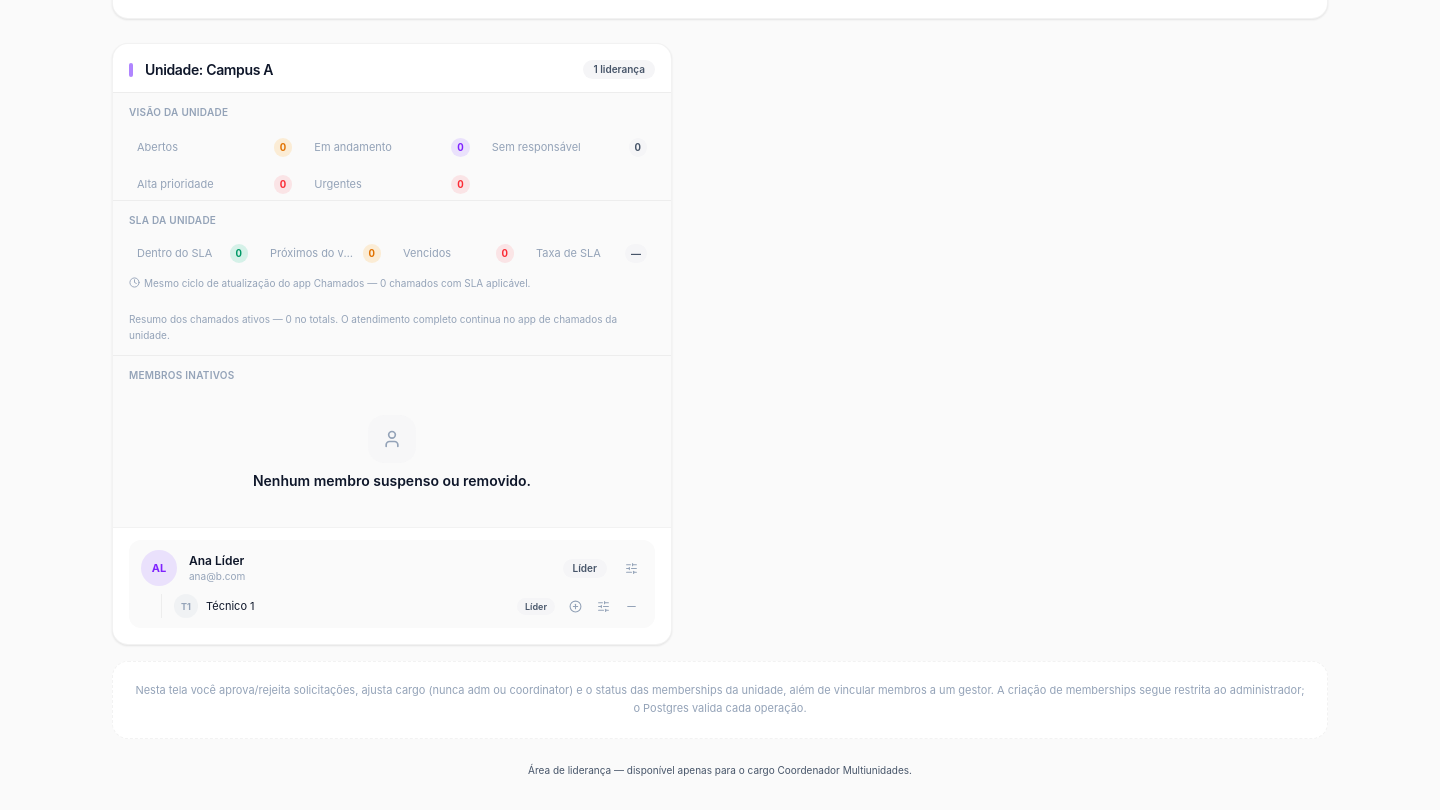
Test: CoordinatorHome (Área do Coordenador — gestão por RPC escopada) › gestão de cargo e status (setCoordinatorRole / suspend / remove) › erro do servidor na troca de cargo → erro inline, NÃO fecha, NÃO refresca
(page scrolled)
What coordinates should you click on to do the following:
click the button named "Gerenciar Técnico 1"
I would click on:
 (603, 606)
Its box is [591,594,615,618].
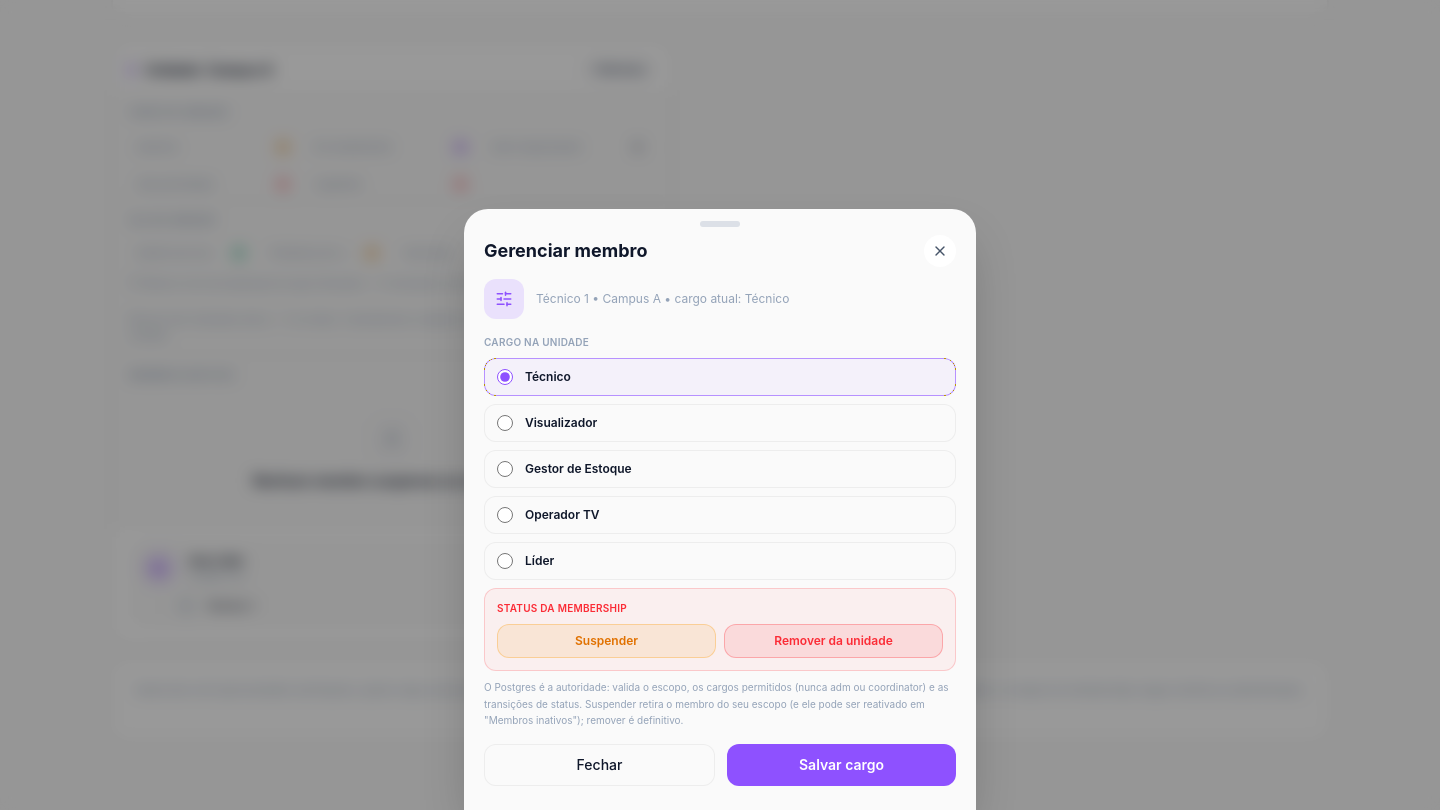
What coordinates should you click on to do the following:
click the radio button labelled "Líder"
I would click on:
 (505, 561)
Its box is [497,553,513,569].
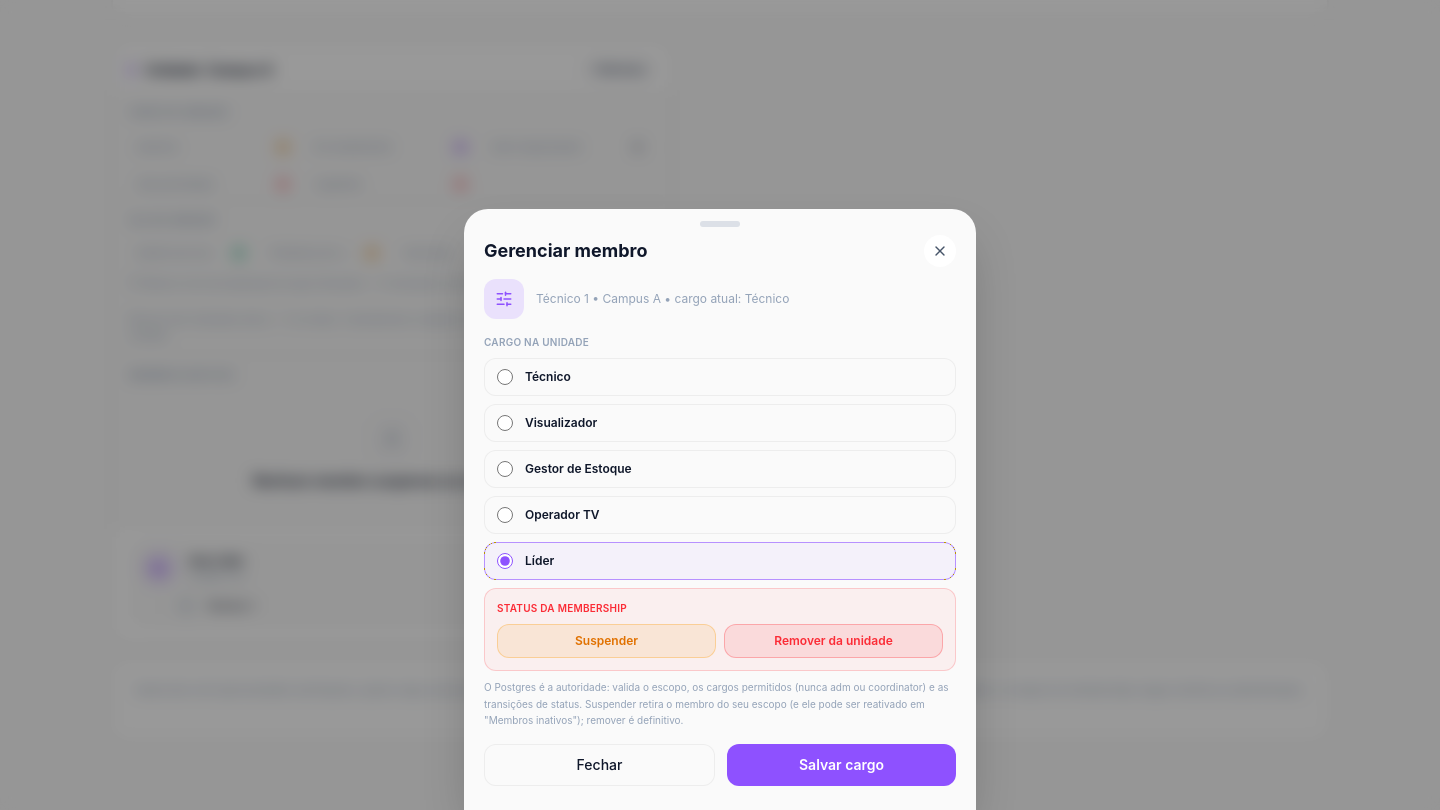
What coordinates should you click on to do the following:
click the button "Salvar cargo"
I would click on:
 (842, 765)
Its box is [727,744,956,786].
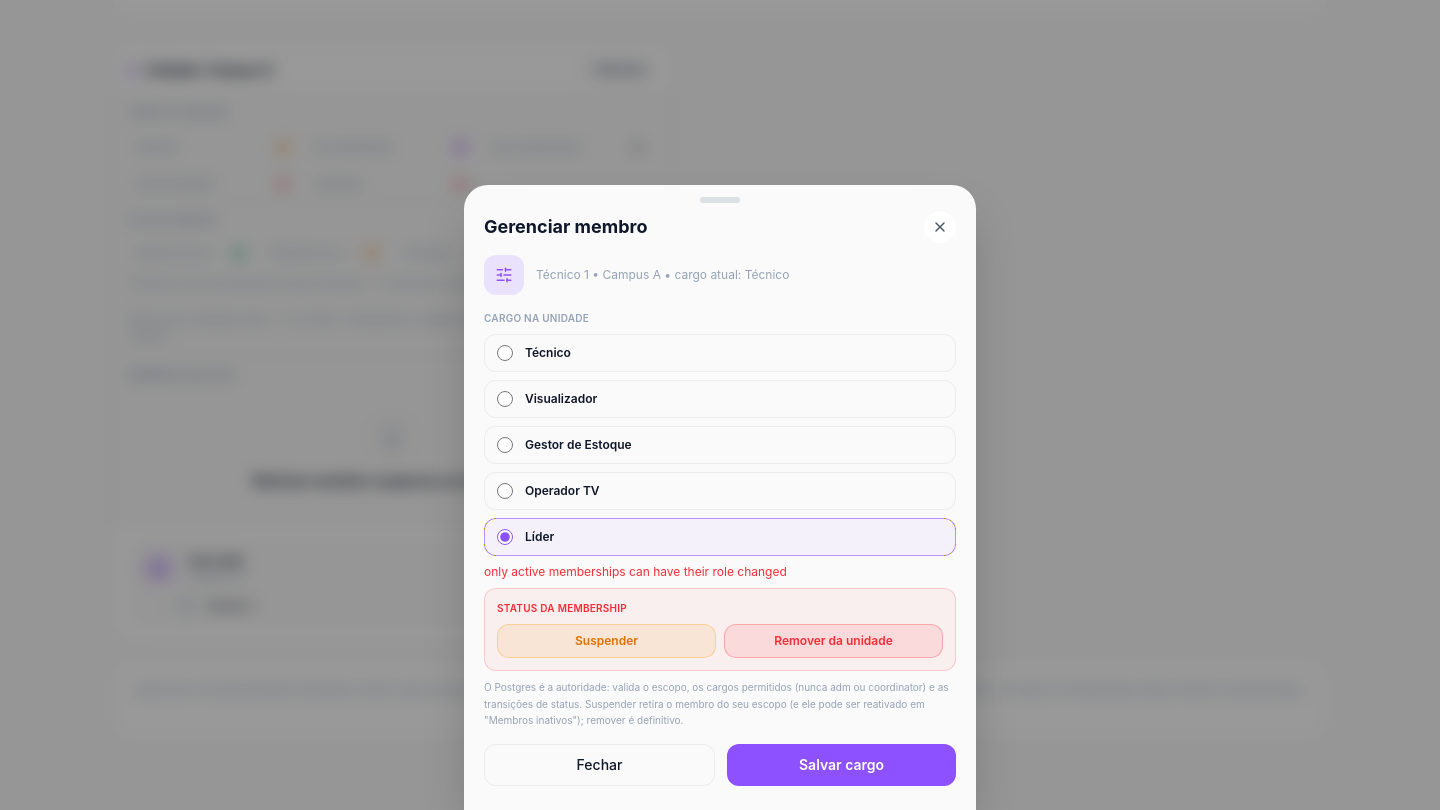
Now the dialog "Gerenciar membro" is shown, box [464,207,976,809]
Now the text "only active memberships can have their role changed" is shown, box [484,564,787,579]
